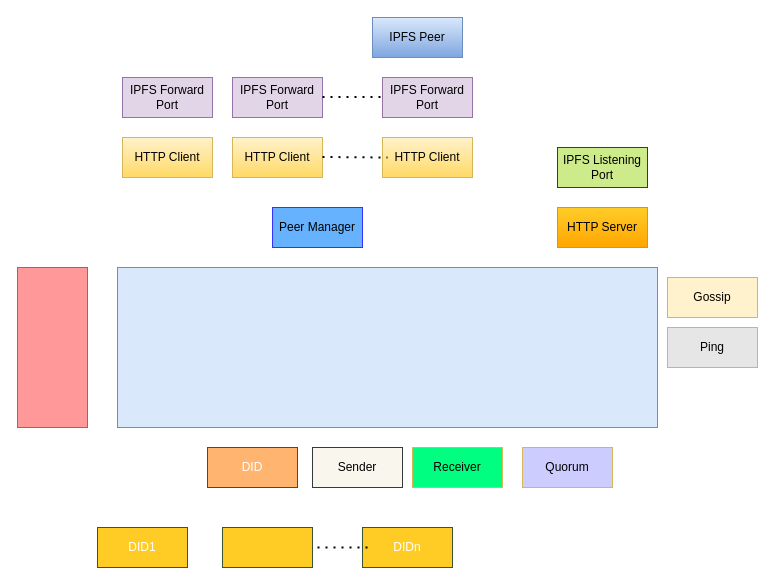
The diagram is 775 pixels wide and 585 high, and some of its shapes have lost their labels. Each missing label, with the centre of its shape:
"DID2" goes at pixel 267 547.
"REST API Server" goes at pixel 52 347.
"Riubix Core" goes at pixel 387 347.
